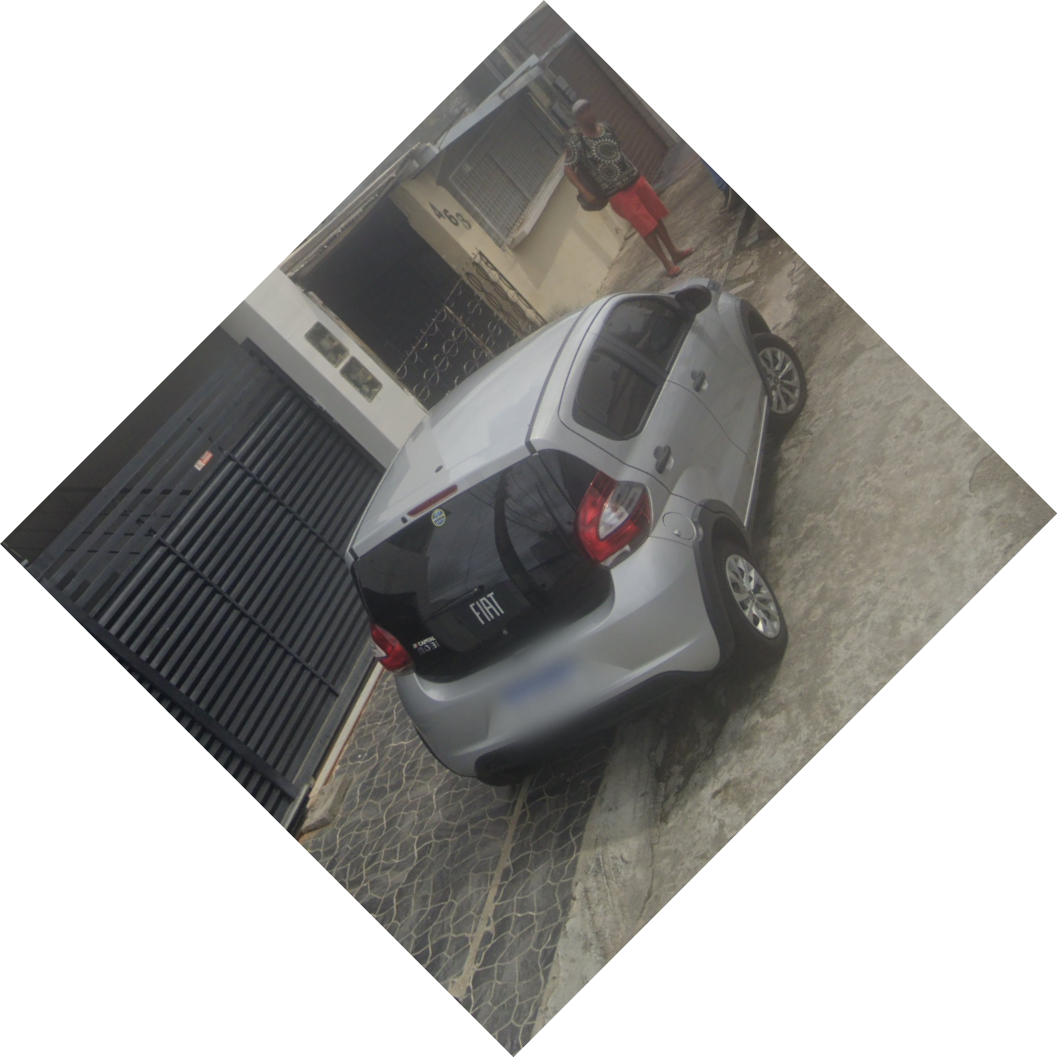car: (336, 277, 809, 787)
